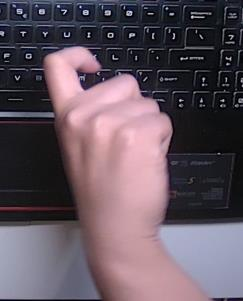anticlockwise: (41, 43, 177, 225)
